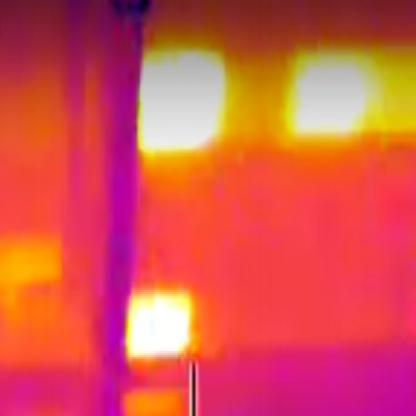Defects: (143, 53, 217, 142), (289, 53, 363, 132), (128, 294, 189, 355)
